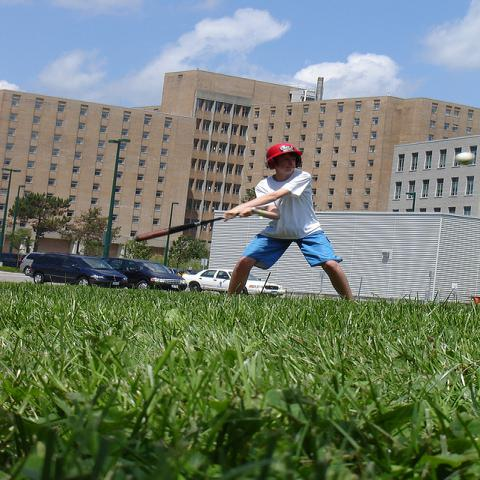car: (29, 250, 127, 286), (182, 268, 287, 296), (111, 256, 186, 292), (18, 252, 44, 275)
